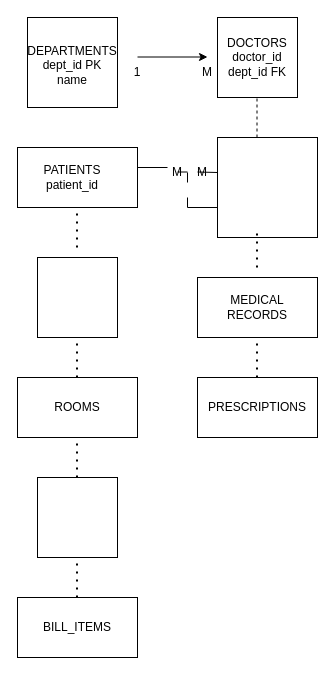
Image size: 335x675. Some labels were removed from this diagram. Here are the shapes that lost their labels. From the top down, the box of each, then its label:
(216, 136, 318, 238): APPOINTMENTS patient_id doctor_id
(36, 256, 118, 338): ADMISSIONS patient_id room_id doctor_id
(36, 476, 118, 558): BILLS patient_id admission_id
